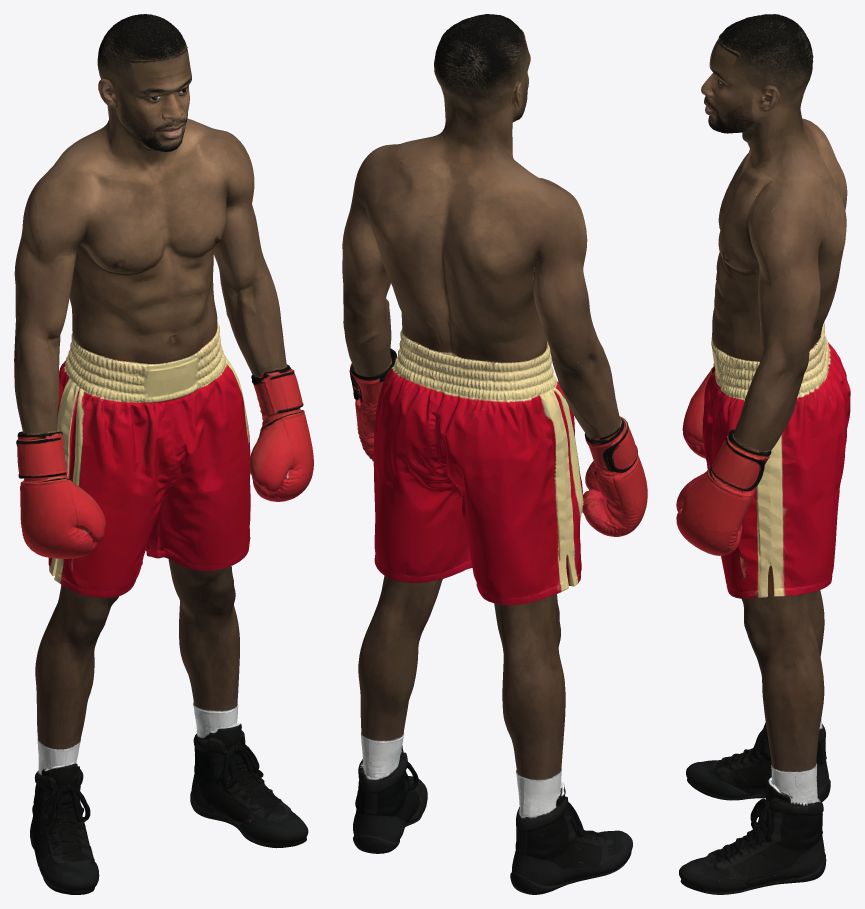
File: demo-boxing-men.glb
3 renders of one model, left to right at view 1: azimuth 30°, elevation 25°; view 2: azimuth 150°, elevation 25°; view 3: azimuth 270°, elevation 25°, orthographic. The views are drawn at different scales.
Bounding box in the file's own units: 0.6742 × 1.9 × 0.3667.
Materials: 1 (1 with a texture image).
